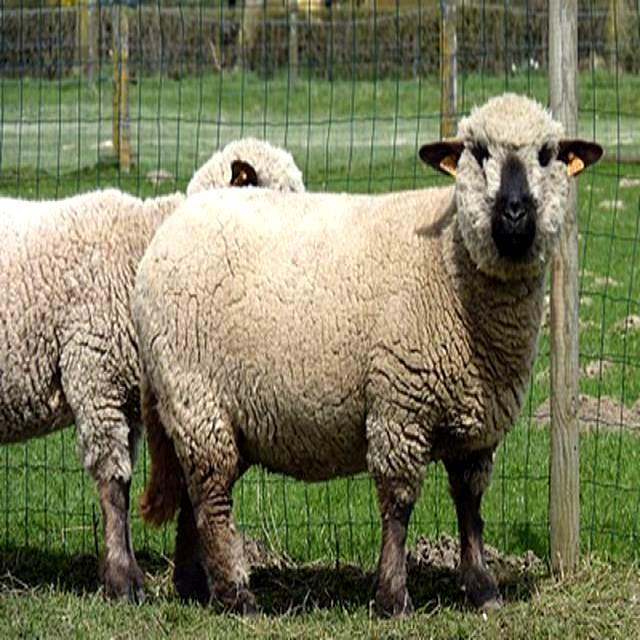sheep: (136, 92, 602, 618)
